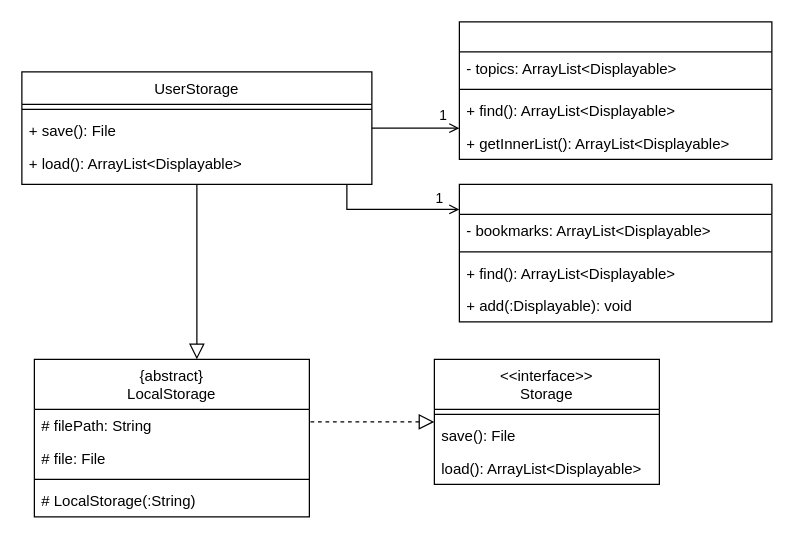
The diagram is 794 pixels wide and 543 high, and some of its shapes have lost their labels. The shapes that lost their labels are listed below. From the top down, each one's box as (x1, y1, x2, y2) in pixels, then its label:
(458, 21, 772, 159): TopicList
(458, 183, 772, 322): BookmarkList
